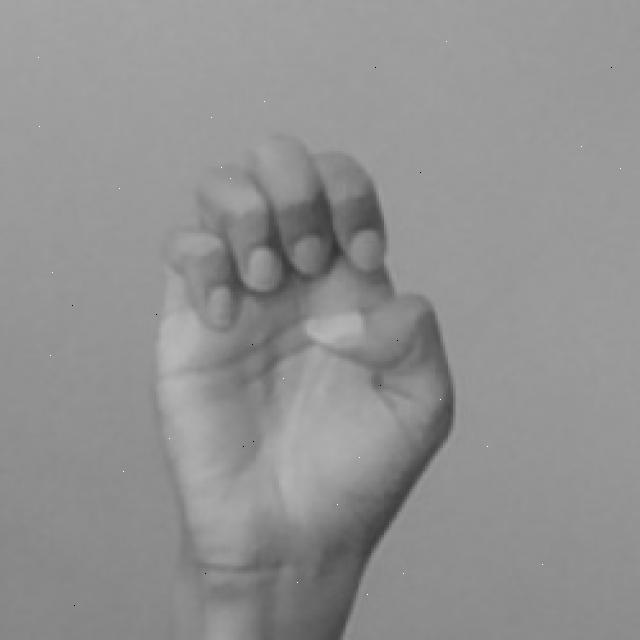E: (139, 128, 460, 640)
